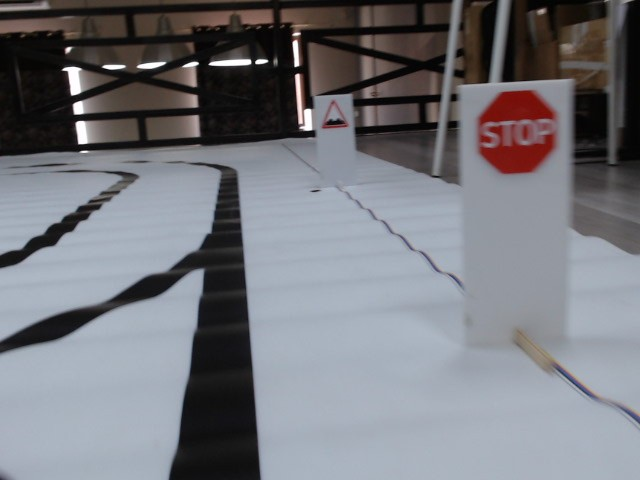Nerov: (321, 99, 348, 134)
Stop: (473, 91, 560, 174)
